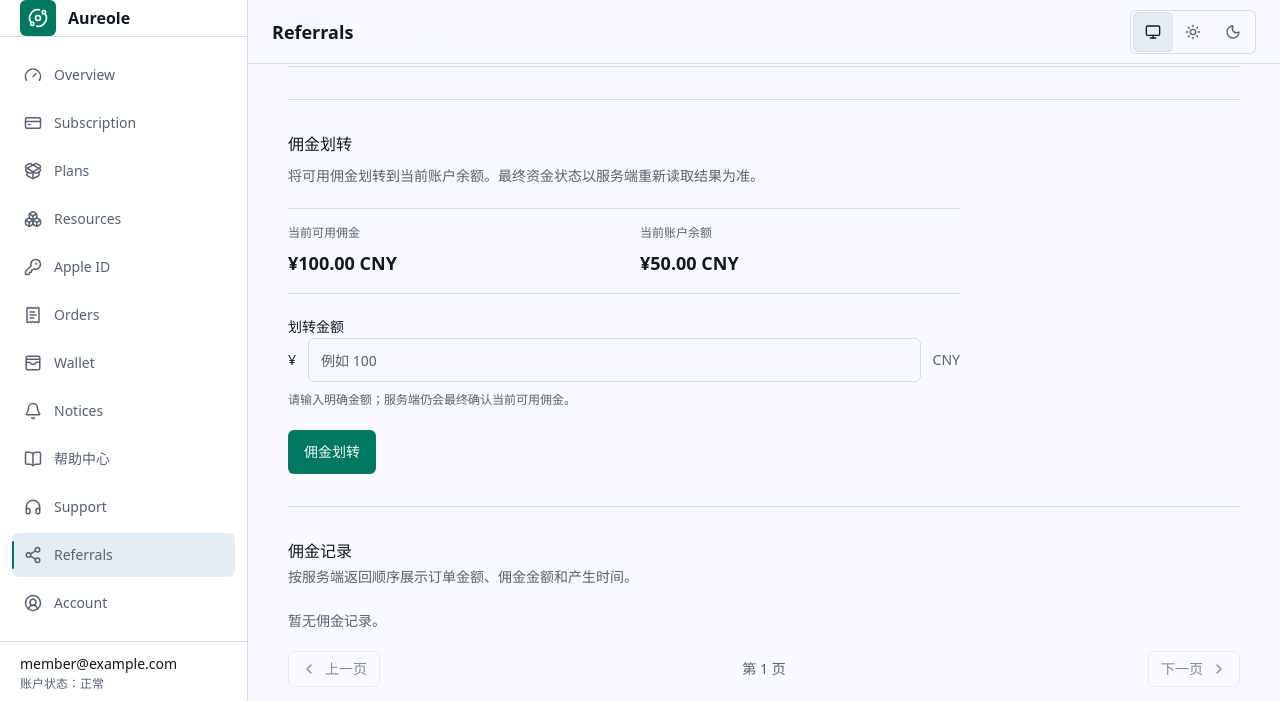
Commission Transfer authority and confirmation › shows current financial values and requires explicit confirmation
(page scrolled)
Type "10.5" into the field labelled "划转金额" at (614, 360), box [308,338,921,382]
(page scrolled)
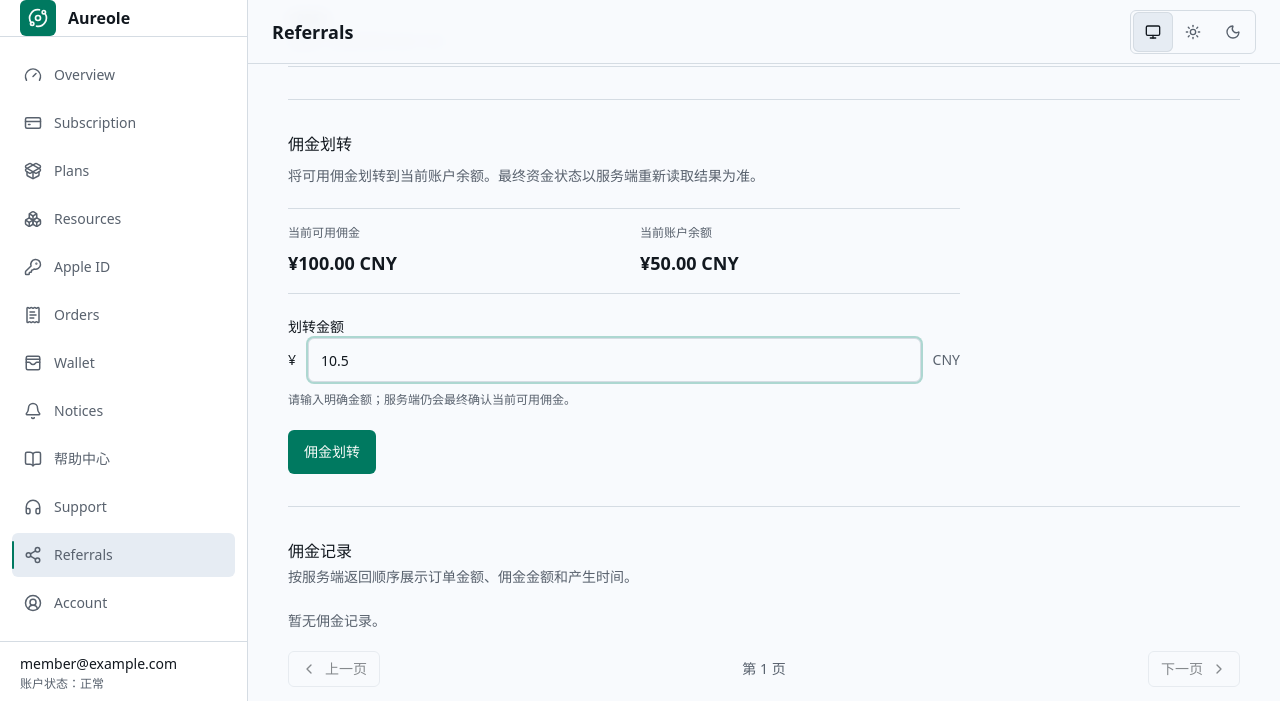
Click the button "佣金划转" at (332, 452), box [288,430,376,474]
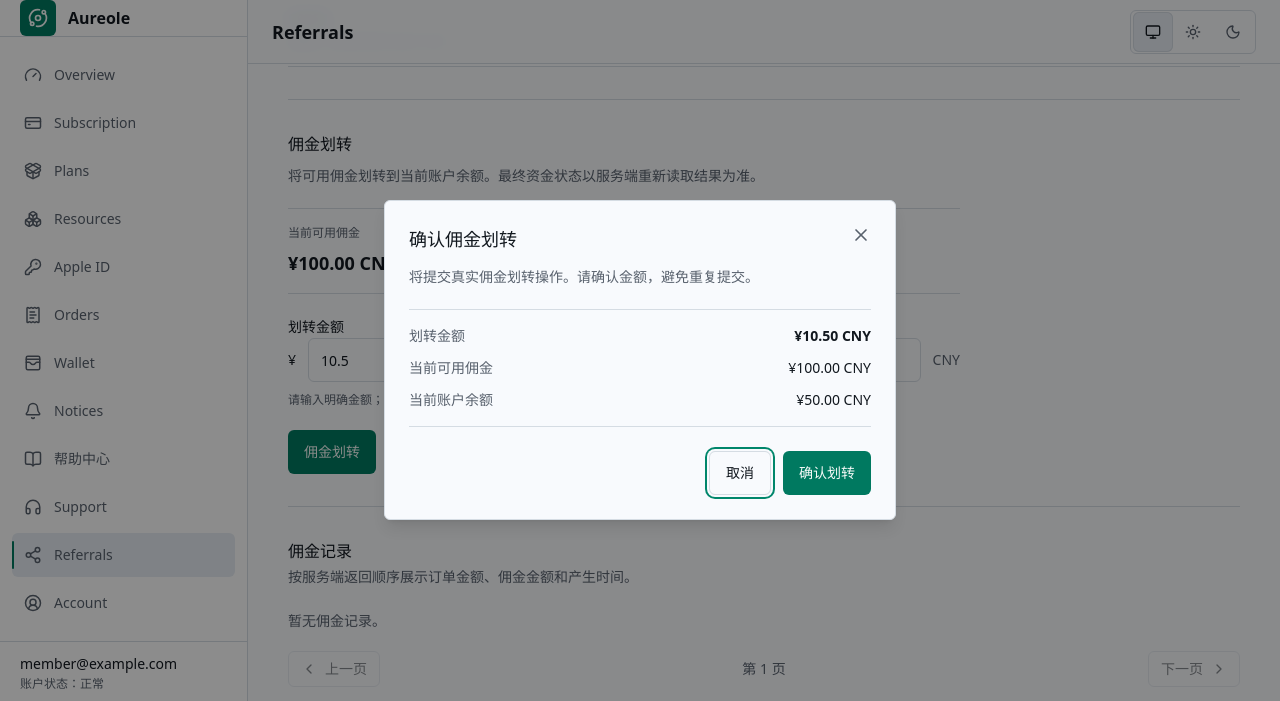
Expected: the text "¥10.50 CNY" is shown, [794,326,871,346]
Expected: the text "¥100.00 CNY" is shown, [788,358,871,378]
Expected: the text "¥50.00 CNY" is shown, [796,390,871,410]
Press Escape
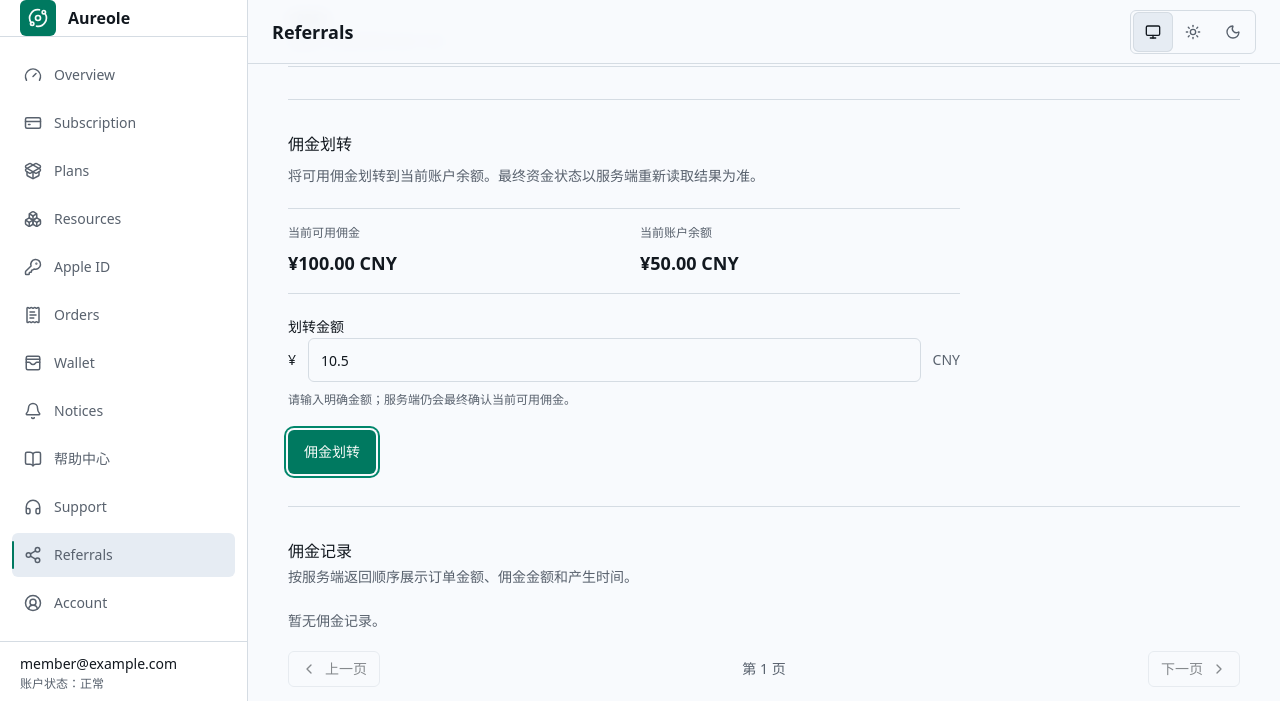
Expected: the dialog is gone
